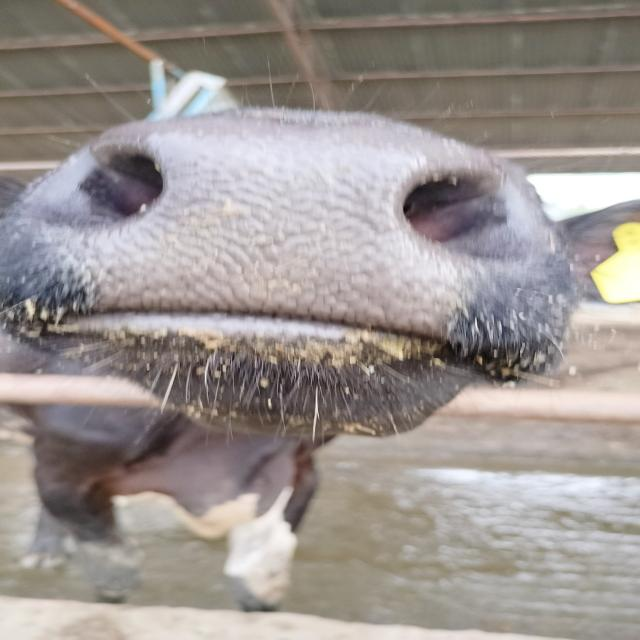muzzles: (52, 96, 571, 354)
